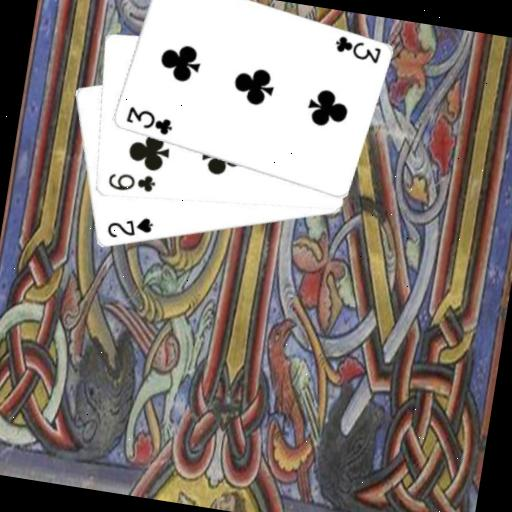2S: (102, 208, 155, 245)
3C: (121, 103, 176, 138), (329, 31, 384, 65)
6C: (103, 166, 158, 198)
